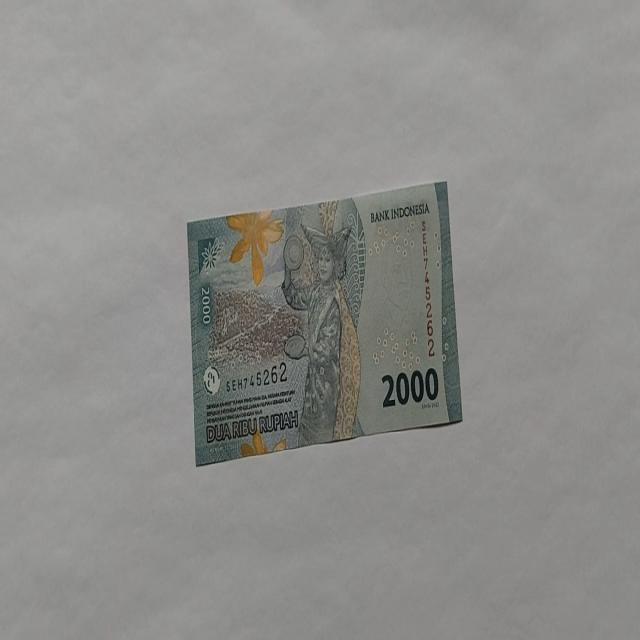dua ribu rupiah: (187, 178, 462, 466), (280, 218, 362, 448)
